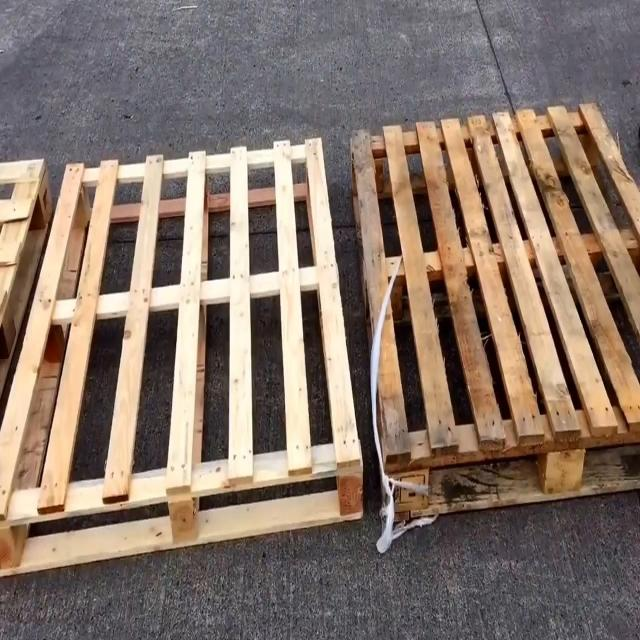Palette: (0, 129, 365, 581), (351, 93, 640, 554), (0, 148, 56, 436)
